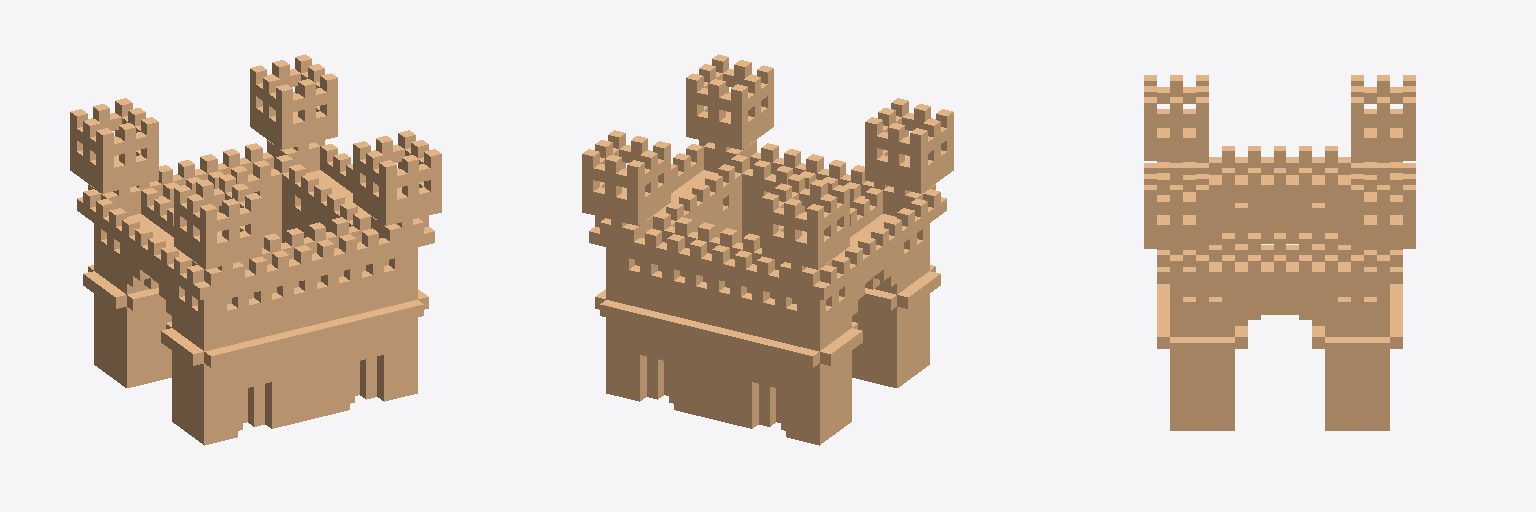
The picture shows the model from 3 angles: view 1: azimuth 30°, elevation 25°; view 2: azimuth 150°, elevation 25°; view 3: azimuth 270°, elevation 25°; orthographic projection.
Visible parts, largest first — view 1: castle; view 2: castle; view 3: castle.
Boxes of the visible parts, box(x1,y1,x2,y2) form: castle: box(70, 54, 441, 445); castle: box(582, 54, 953, 445); castle: box(1144, 75, 1415, 430).
Bounding box in the file's own units: 21 × 21 × 21.
1 materials, 1 textured.